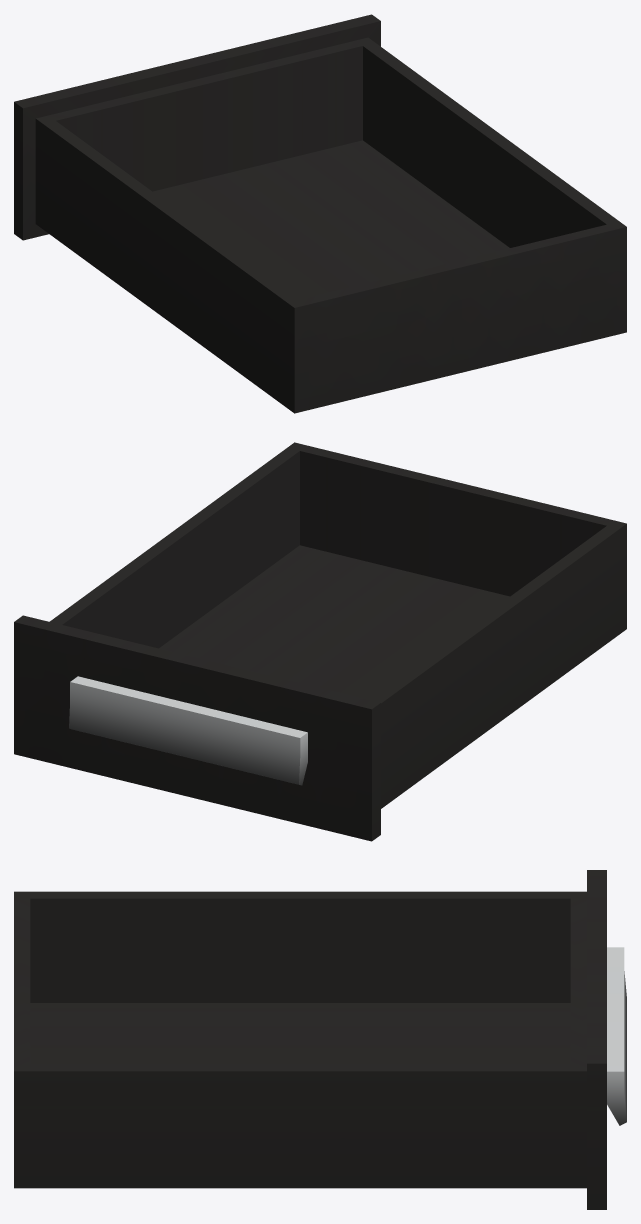
The model's file is Drawer_OfficeDesk4_Top.fbx.
3 views of the same model, one above another, from view 1: azimuth 30°, elevation 25°; view 2: azimuth 150°, elevation 25°; view 3: azimuth 270°, elevation 25° (orthographic). The views are drawn at different scales.
Visible parts, largest first — view 1: Drawer_OfficeDesk4_Top; view 2: Drawer_OfficeDesk4_Top; view 3: Drawer_OfficeDesk4_Top.
Part boxes in pixels (box(x1,y1,x2,y2)): Drawer_OfficeDesk4_Top: box(14, 14, 626, 413); Drawer_OfficeDesk4_Top: box(14, 442, 626, 841); Drawer_OfficeDesk4_Top: box(14, 870, 626, 1209).
Size of the model in its own units: 44.19 by 15.6 by 59.19.
